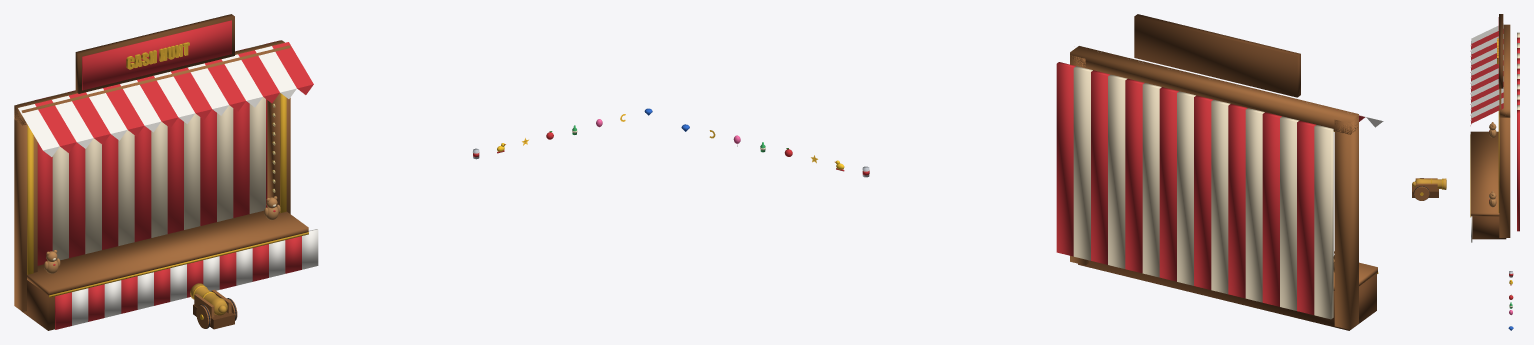
Rendered from cashhunt.glb.
3 views of the same model, side by side, from view 1: azimuth 30°, elevation 25°; view 2: azimuth 150°, elevation 25°; view 3: azimuth 270°, elevation 25° (orthographic). The views are drawn at different scales.
Visible parts, largest first — view 1: CH_BOOTH, CH_CANNON, CH_BARREL; view 2: CH_BOOTH; view 3: CH_BOOTH, CH_CANNON, CH_BARREL.
Boxes of the visible parts, x1,y1,x2,y2 form: CH_BOOTH: [14, 14, 318, 330]; CH_CANNON: [193, 289, 237, 329]; CH_BARREL: [190, 283, 227, 315]; CH_BOOTH: [1056, 14, 1383, 330]; CH_BOOTH: [1470, 14, 1519, 242]; CH_CANNON: [1412, 178, 1438, 200]; CH_BARREL: [1412, 178, 1446, 189].
Bounding box in the file's own units: 77.95 × 28.9 × 17.65.
